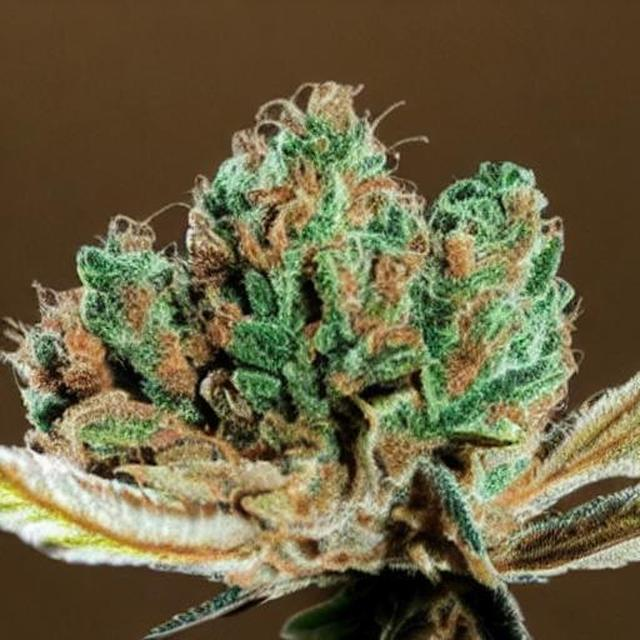Marijuana Joint: (1, 76, 640, 572)
